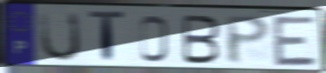0: (139, 14, 170, 63)
B: (180, 13, 223, 66)
E: (271, 15, 319, 68)
P: (223, 14, 272, 67)
T: (87, 10, 127, 67)
U: (39, 11, 83, 64)
